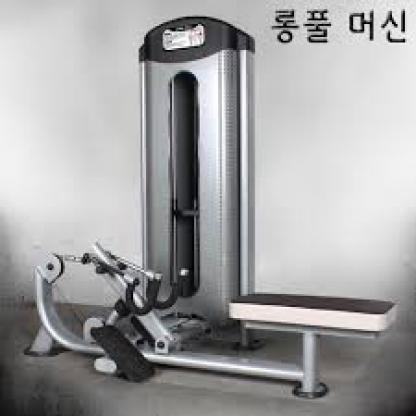Seated Cable Rows: (26, 13, 404, 404)
